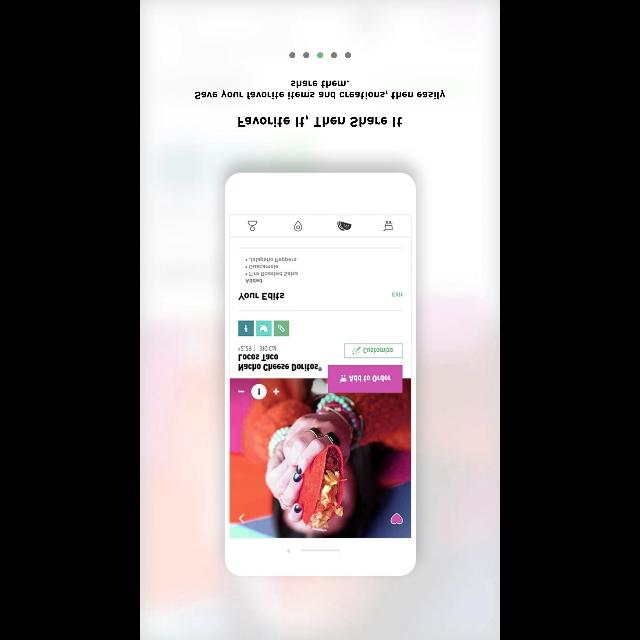image: (224, 172, 416, 576)
pageindicator: (289, 52, 351, 58)
text: (195, 80, 445, 100), (238, 115, 402, 127)
